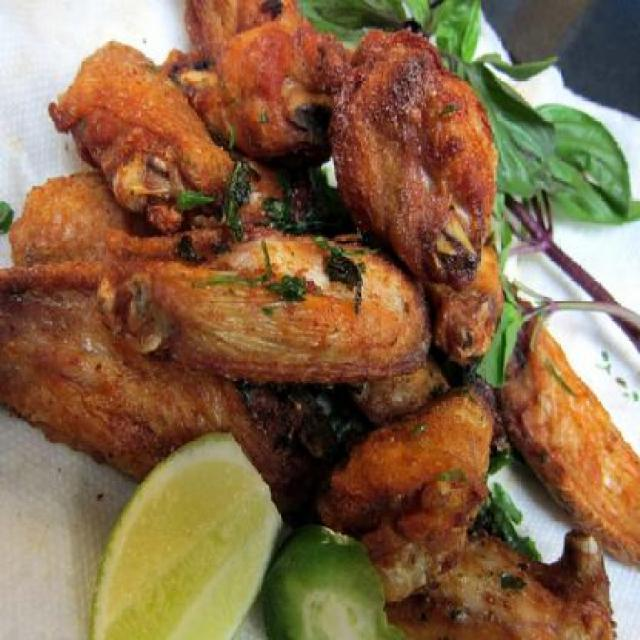Deep fried chicken wing: (8, 23, 610, 611)
